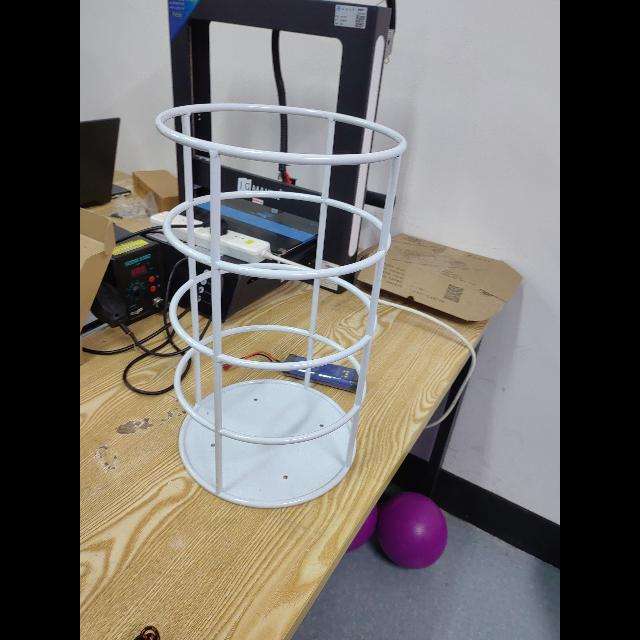S: (153, 100, 410, 512)
